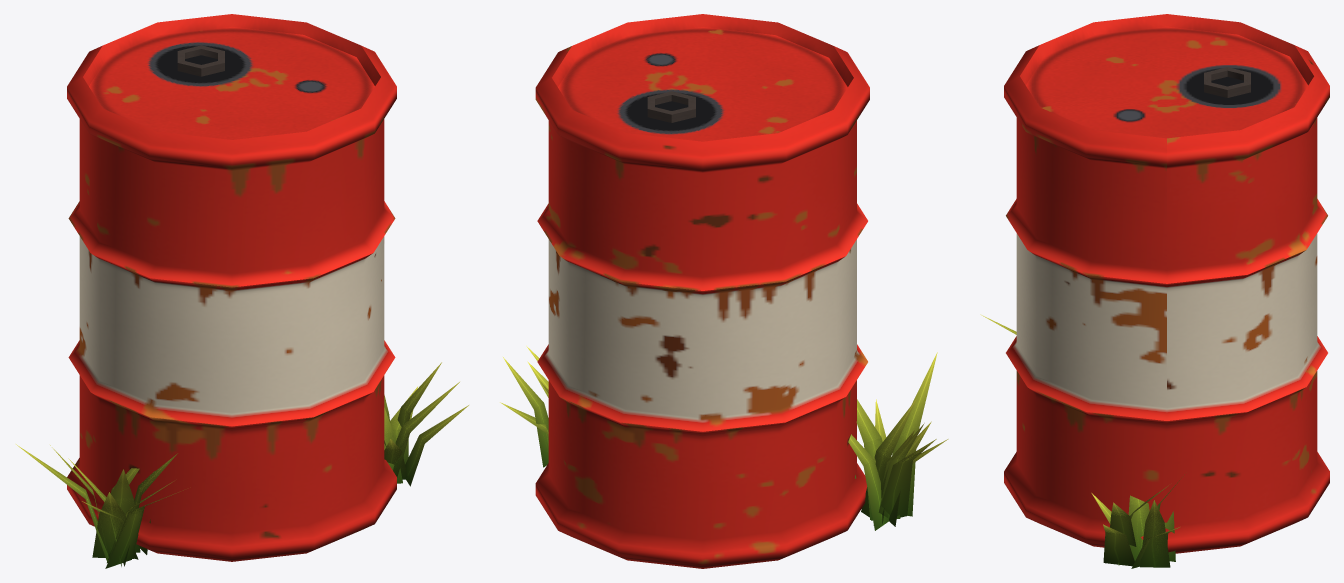
File: Barrel_RedWhite.fbx
3 renders of one model, left to right at view 1: azimuth 30°, elevation 25°; view 2: azimuth 150°, elevation 25°; view 3: azimuth 270°, elevation 25°, orthographic. The views are drawn at different scales.
Visible parts, largest first — view 1: Barrel_RedWhite_Body, Barrel_RedWhite_Grass; view 2: Barrel_RedWhite_Body, Barrel_RedWhite_Grass; view 3: Barrel_RedWhite_Body, Barrel_RedWhite_Grass.
Part boxes in pixels (bbox=[...]): Barrel_RedWhite_Body: bbox=[67, 14, 396, 561]; Barrel_RedWhite_Grass: bbox=[16, 362, 468, 568]; Barrel_RedWhite_Body: bbox=[535, 14, 869, 568]; Barrel_RedWhite_Grass: bbox=[500, 346, 948, 530]; Barrel_RedWhite_Body: bbox=[1004, 14, 1329, 553]; Barrel_RedWhite_Grass: bbox=[980, 314, 1184, 568].
Size of the model in its own units: 0.9405 by 0.88 by 0.6739.
1 material, 1 textured.
